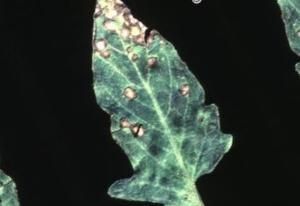Tomato Septoria leaf spot: (20, 0, 276, 206)
